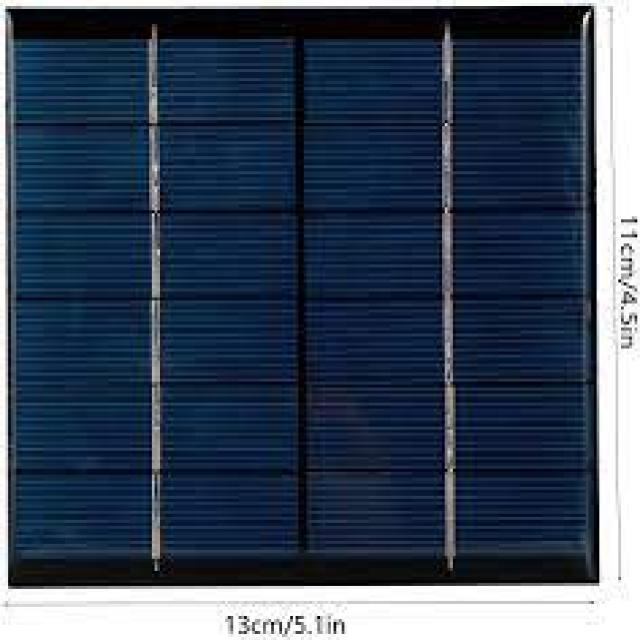no faulty: (21, 37, 584, 564)
